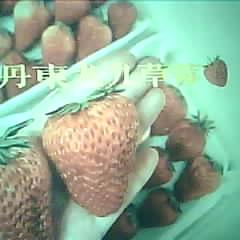straw-ripe: (42, 95, 137, 215)
